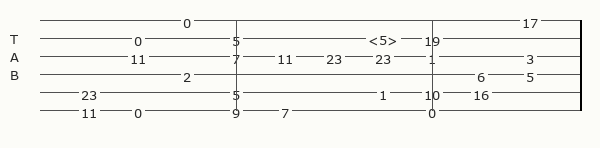0: (134, 104, 146, 117), (134, 32, 146, 45), (183, 14, 195, 27), (428, 104, 440, 117)
1: (379, 86, 391, 99), (428, 50, 440, 63)
10: (424, 86, 444, 99)
11: (81, 104, 101, 117), (130, 50, 150, 63), (277, 50, 297, 63)
16: (473, 86, 493, 99)
17: (522, 14, 542, 27)
19: (424, 32, 444, 45)
2: (183, 68, 195, 81)
23: (81, 86, 101, 99), (326, 50, 346, 63), (375, 50, 395, 63)
3: (526, 50, 538, 63)
5: (232, 86, 244, 99), (232, 32, 244, 45), (526, 68, 538, 81)
6: (477, 68, 489, 81)
7: (232, 50, 244, 63), (281, 104, 293, 117)
9: (232, 104, 244, 117)
harmonic: (368, 31, 402, 45)
